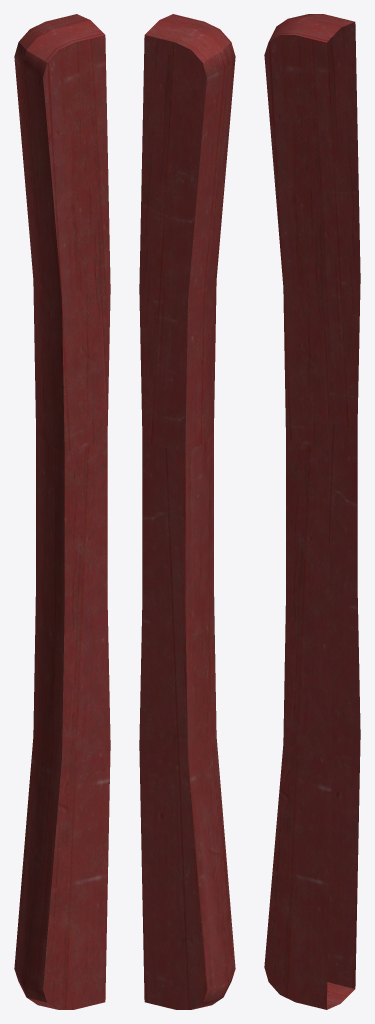
Rendered from SM_D_Wood_5_3.fbx.
The picture shows the model from 3 angles, left to right: view 1: azimuth 30°, elevation 25°; view 2: azimuth 150°, elevation 25°; view 3: azimuth 330°, elevation 25°; orthographic projection.
Parts seen in each view (by area): view 1: SM_D_Wood_5_3; view 2: SM_D_Wood_5_3; view 3: SM_D_Wood_5_3.
Part boxes in pixels (x1,y1,x2,y2): SM_D_Wood_5_3: (14,14,110,1009); SM_D_Wood_5_3: (139,14,235,1009); SM_D_Wood_5_3: (264,14,360,1009).
Bounding box in the file's own units: 15.36 × 10.29 × 194.
Materials: 1 (1 with a texture image).
